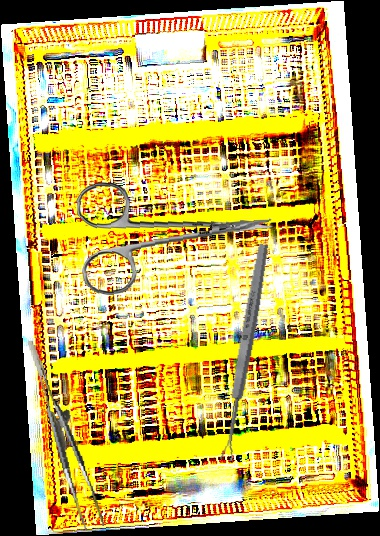Iris Scissors: (75, 170, 277, 298)
Surgical Spoon: (218, 243, 271, 462)
Tissue Forceps: (27, 333, 105, 534)
